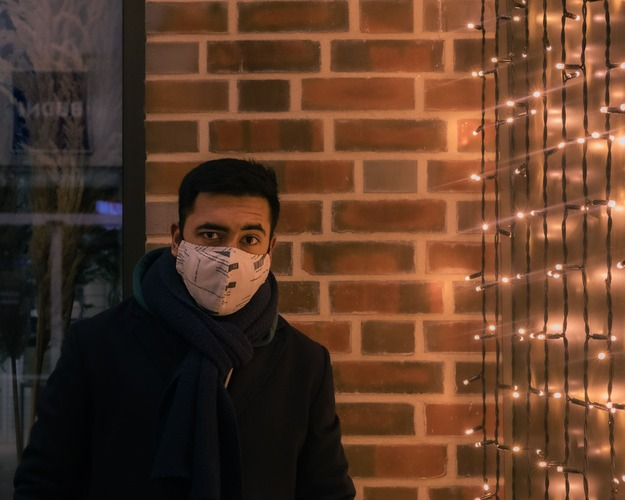with_mask: (184, 211, 268, 310)
